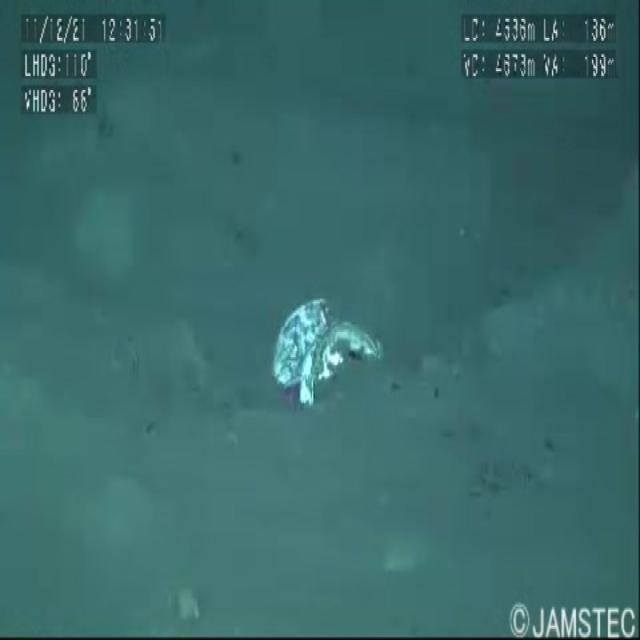Litter: (246, 253, 410, 465)
